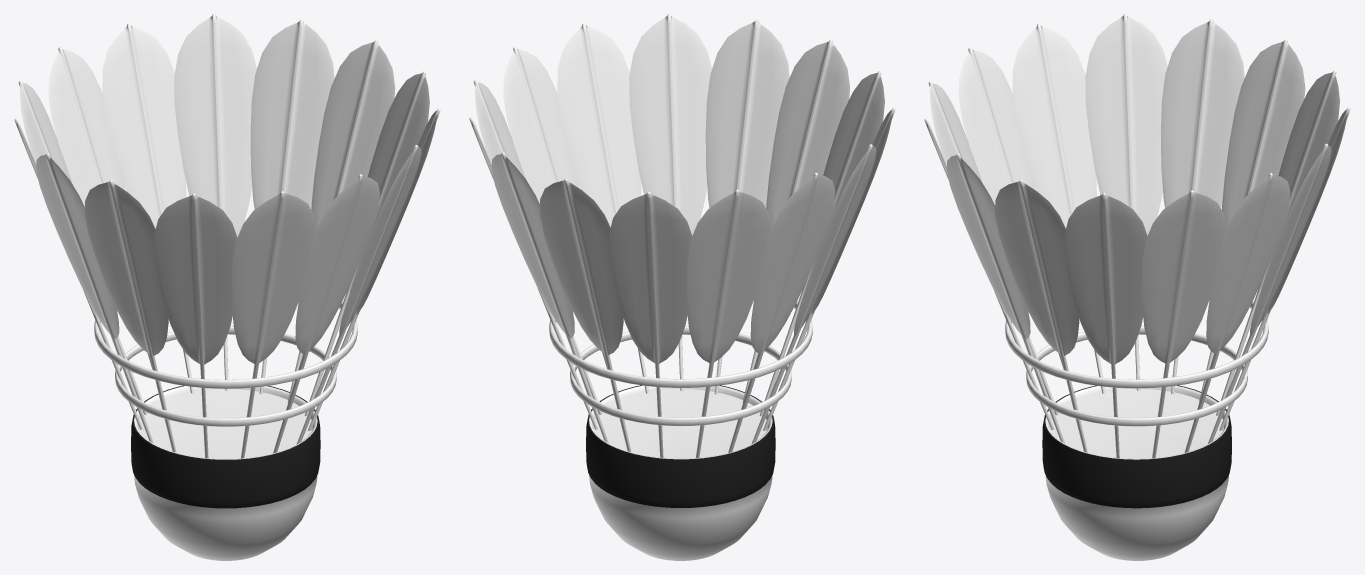
File: Badminton.fbx
3 renders of one model, left to right at view 1: azimuth 30°, elevation 25°; view 2: azimuth 150°, elevation 25°; view 3: azimuth 270°, elevation 25°, orthographic.
Parts seen in each view (by area): view 1: Badminton; view 2: Badminton; view 3: Badminton.
Part boxes in pixels (x1,y1,x2,y2): Badminton: (14, 14, 440, 560); Badminton: (469, 14, 895, 560); Badminton: (924, 14, 1350, 560).
Bounding box in the file's own units: 38.14 × 44.38 × 38.11.
